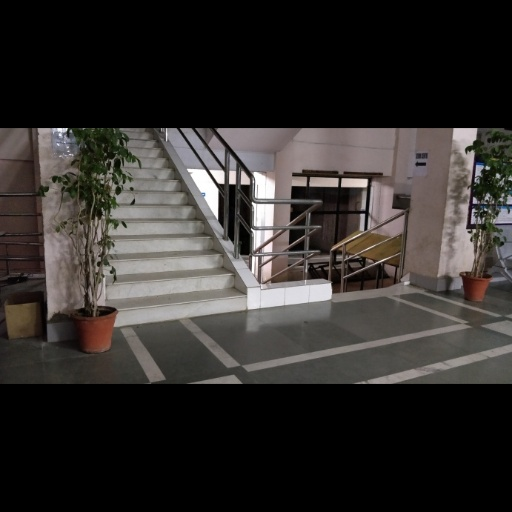Stairs: (106, 129, 246, 326)
